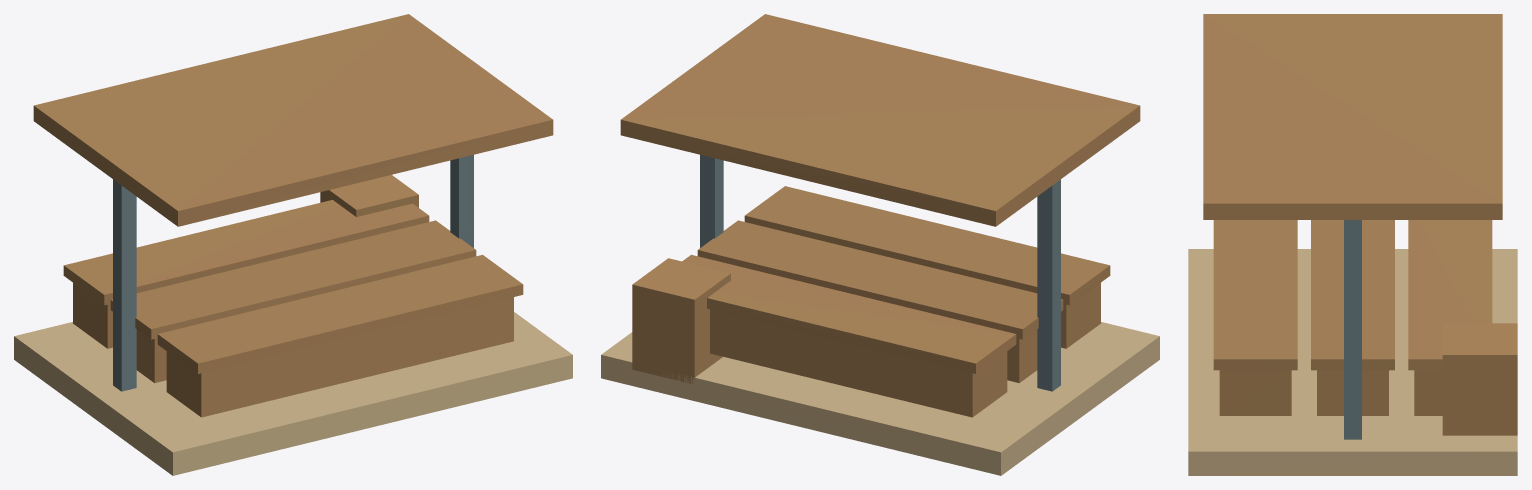
Rendered from Worm-Farm.glb.
3 renders of one model, left to right at view 1: azimuth 30°, elevation 25°; view 2: azimuth 150°, elevation 25°; view 3: azimuth 270°, elevation 25°, orthographic. The views are drawn at different scales.
Visible parts, largest first — view 1: worm-farm-static-worm-teal, worm-farm-static-worm-cream, worm-farm-static-worm-timber, worm-farm-static-worm-iron, worm-farm-static-worm-galv; view 2: worm-farm-static-worm-teal, worm-farm-static-worm-cream, worm-farm-static-worm-timber, worm-farm-static-worm-galv, worm-farm-static-worm-iron; view 3: worm-farm-static-worm-teal, worm-farm-static-worm-cream, worm-farm-static-worm-galv, worm-farm-static-worm-timber, worm-farm-static-worm-iron.
Part boxes in pixels (x1,y1,x2,y2): worm-farm-static-worm-teal: (33,14,553,373); worm-farm-static-worm-cream: (14,312,572,475); worm-farm-static-worm-timber: (73,283,513,417); worm-farm-static-worm-iron: (113,155,473,391); worm-farm-static-worm-galv: (320,175,418,216); worm-farm-static-worm-teal: (620,14,1140,373); worm-farm-static-worm-cream: (601,322,1159,475); worm-farm-static-worm-timber: (710,283,1100,417); worm-farm-static-worm-galv: (632,258,730,383); worm-farm-static-worm-iron: (700,155,1060,391); worm-farm-static-worm-teal: (1203,14,1502,370); worm-farm-static-worm-cream: (1188,249,1517,475); worm-farm-static-worm-galv: (1442,323,1517,435); worm-farm-static-worm-timber: (1219,370,1442,415); worm-farm-static-worm-iron: (1344,220,1361,439).
Bounding box in the file's own units: 3.2 × 1.96 × 2.2.
